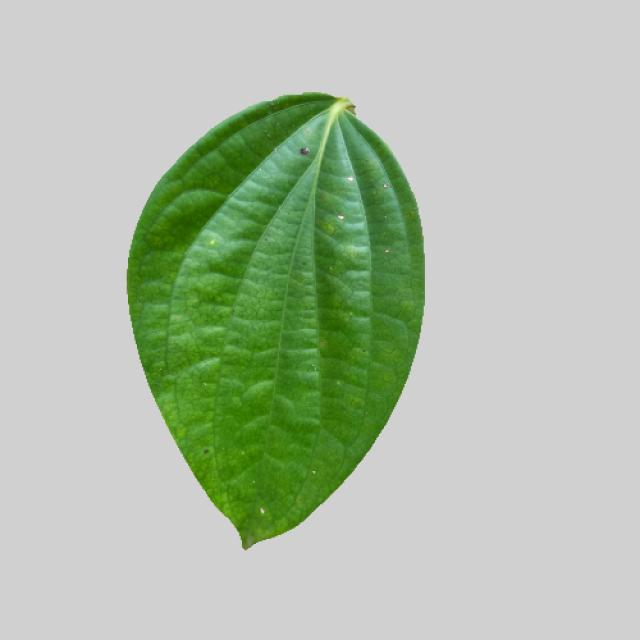healthy: (120, 84, 435, 557)
